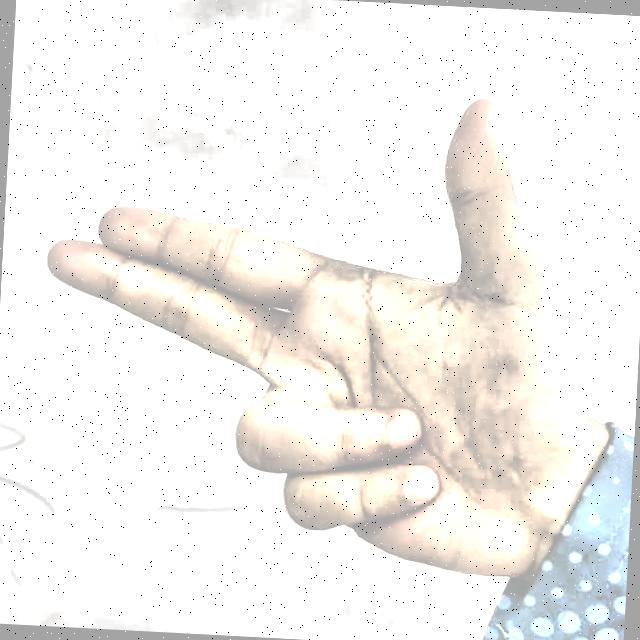Jha: (13, 24, 621, 640)
